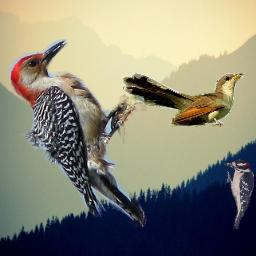Cuckoo: (123, 73, 245, 127)
Woodpecker: (8, 39, 147, 227), (224, 158, 255, 229)
